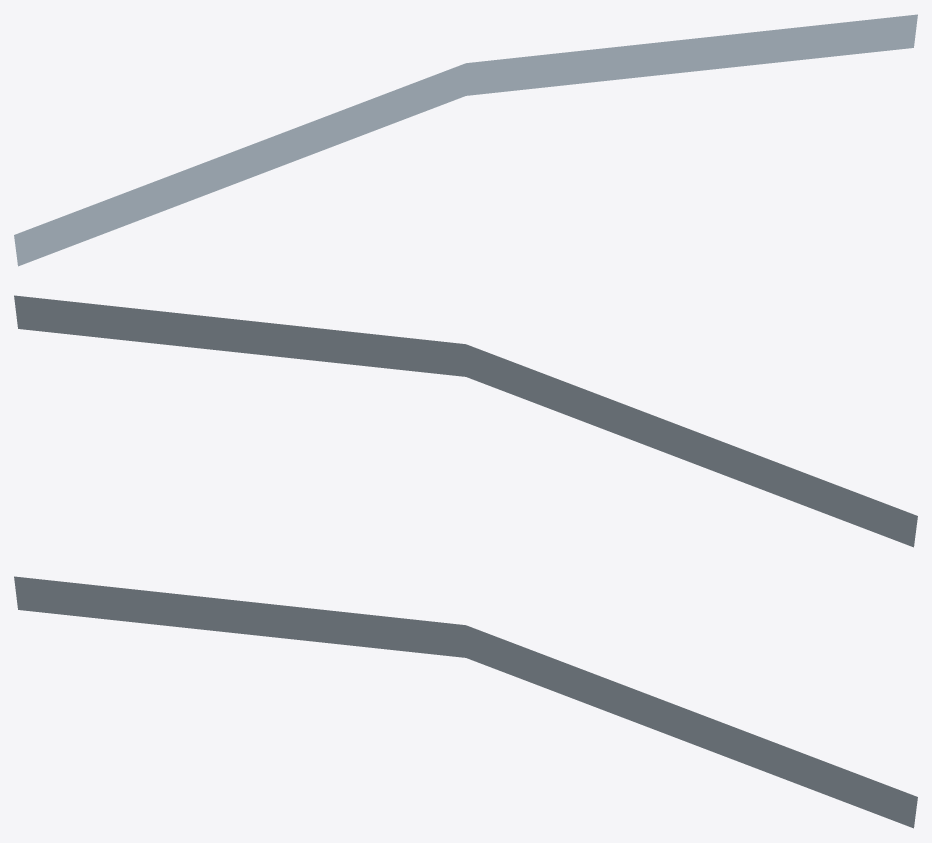
The model's file is 2073_CrossSlash_CrossDecorativeStroke.fbx.
The picture shows the model from 3 angles, top to bottom: view 1: azimuth 30°, elevation 25°; view 2: azimuth 150°, elevation 25°; view 3: azimuth 330°, elevation 25°; orthographic projection.
Visible parts, largest first — view 1: PART_SecondStrokeSameXContact; view 2: PART_SecondStrokeSameXContact; view 3: PART_SecondStrokeSameXContact.
Boxes of the visible parts, <box> form: PART_SecondStrokeSameXContact: <box>14,14,917,266</box>; PART_SecondStrokeSameXContact: <box>14,295,917,547</box>; PART_SecondStrokeSameXContact: <box>14,576,917,828</box>.
Bounding box in the file's own units: 462 × 45.93 × 7.48e-06.
